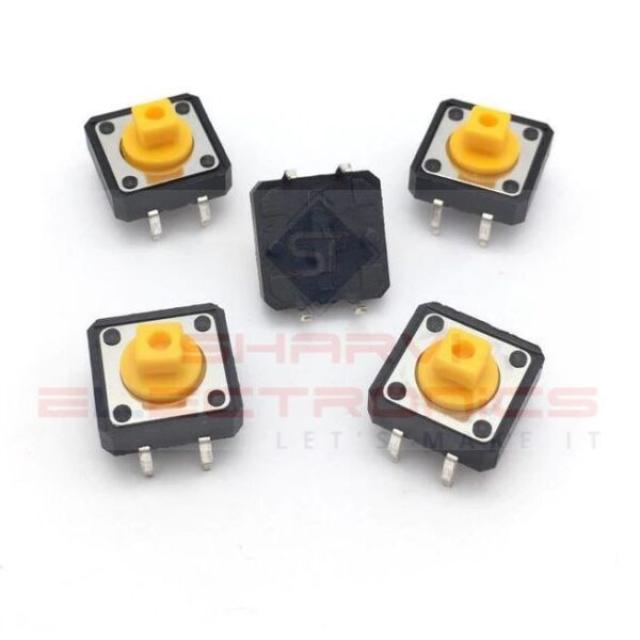Push button: (365, 298, 542, 479), (86, 302, 242, 473), (250, 166, 390, 320), (89, 93, 235, 236), (407, 99, 553, 240)
